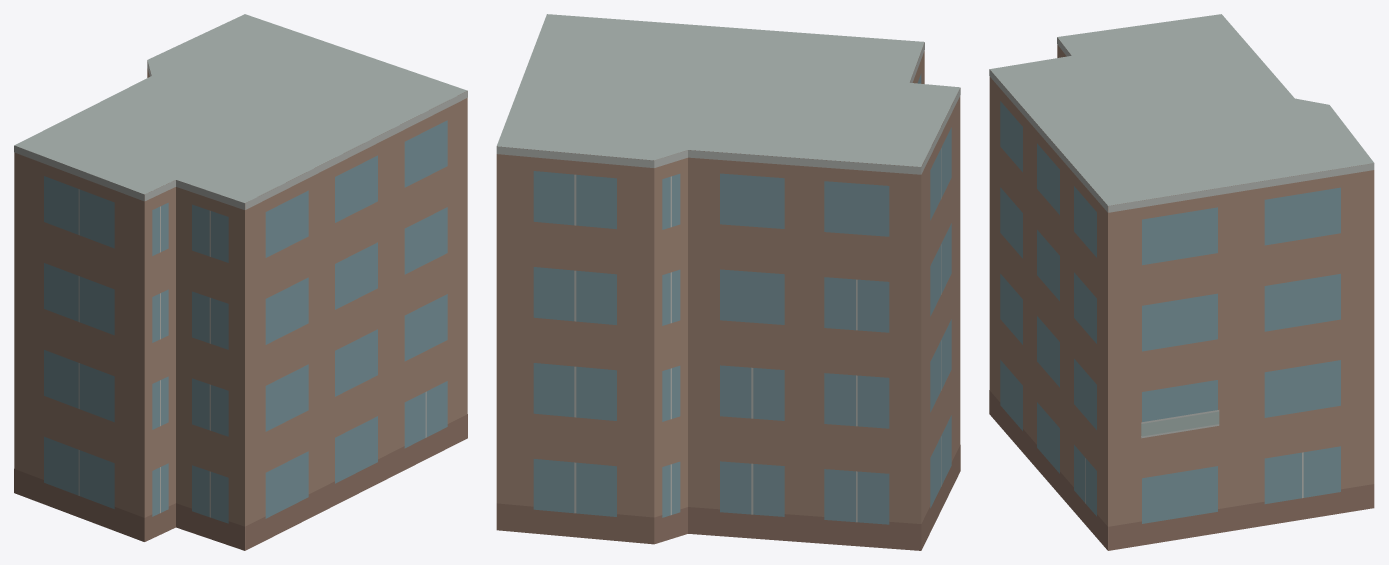
The model's file is survey-upis-32976904.glb.
3 views of the same model, side by side, from view 1: azimuth 30°, elevation 25°; view 2: azimuth 150°, elevation 25°; view 3: azimuth 270°, elevation 25° (orthographic). The views are drawn at different scales.
Visible parts, largest first — view 1: survey-upis-32976904.tmp; view 2: survey-upis-32976904.tmp; view 3: survey-upis-32976904.tmp.
Part boxes in pixels (left/top/right/bottom): survey-upis-32976904.tmp: left=14, top=14, right=467, bottom=550; survey-upis-32976904.tmp: left=496, top=14, right=960, bottom=550; survey-upis-32976904.tmp: left=989, top=14, right=1374, bottom=550.
Bounding box in the file's own units: 14.43 × 12.09 × 12.23.
